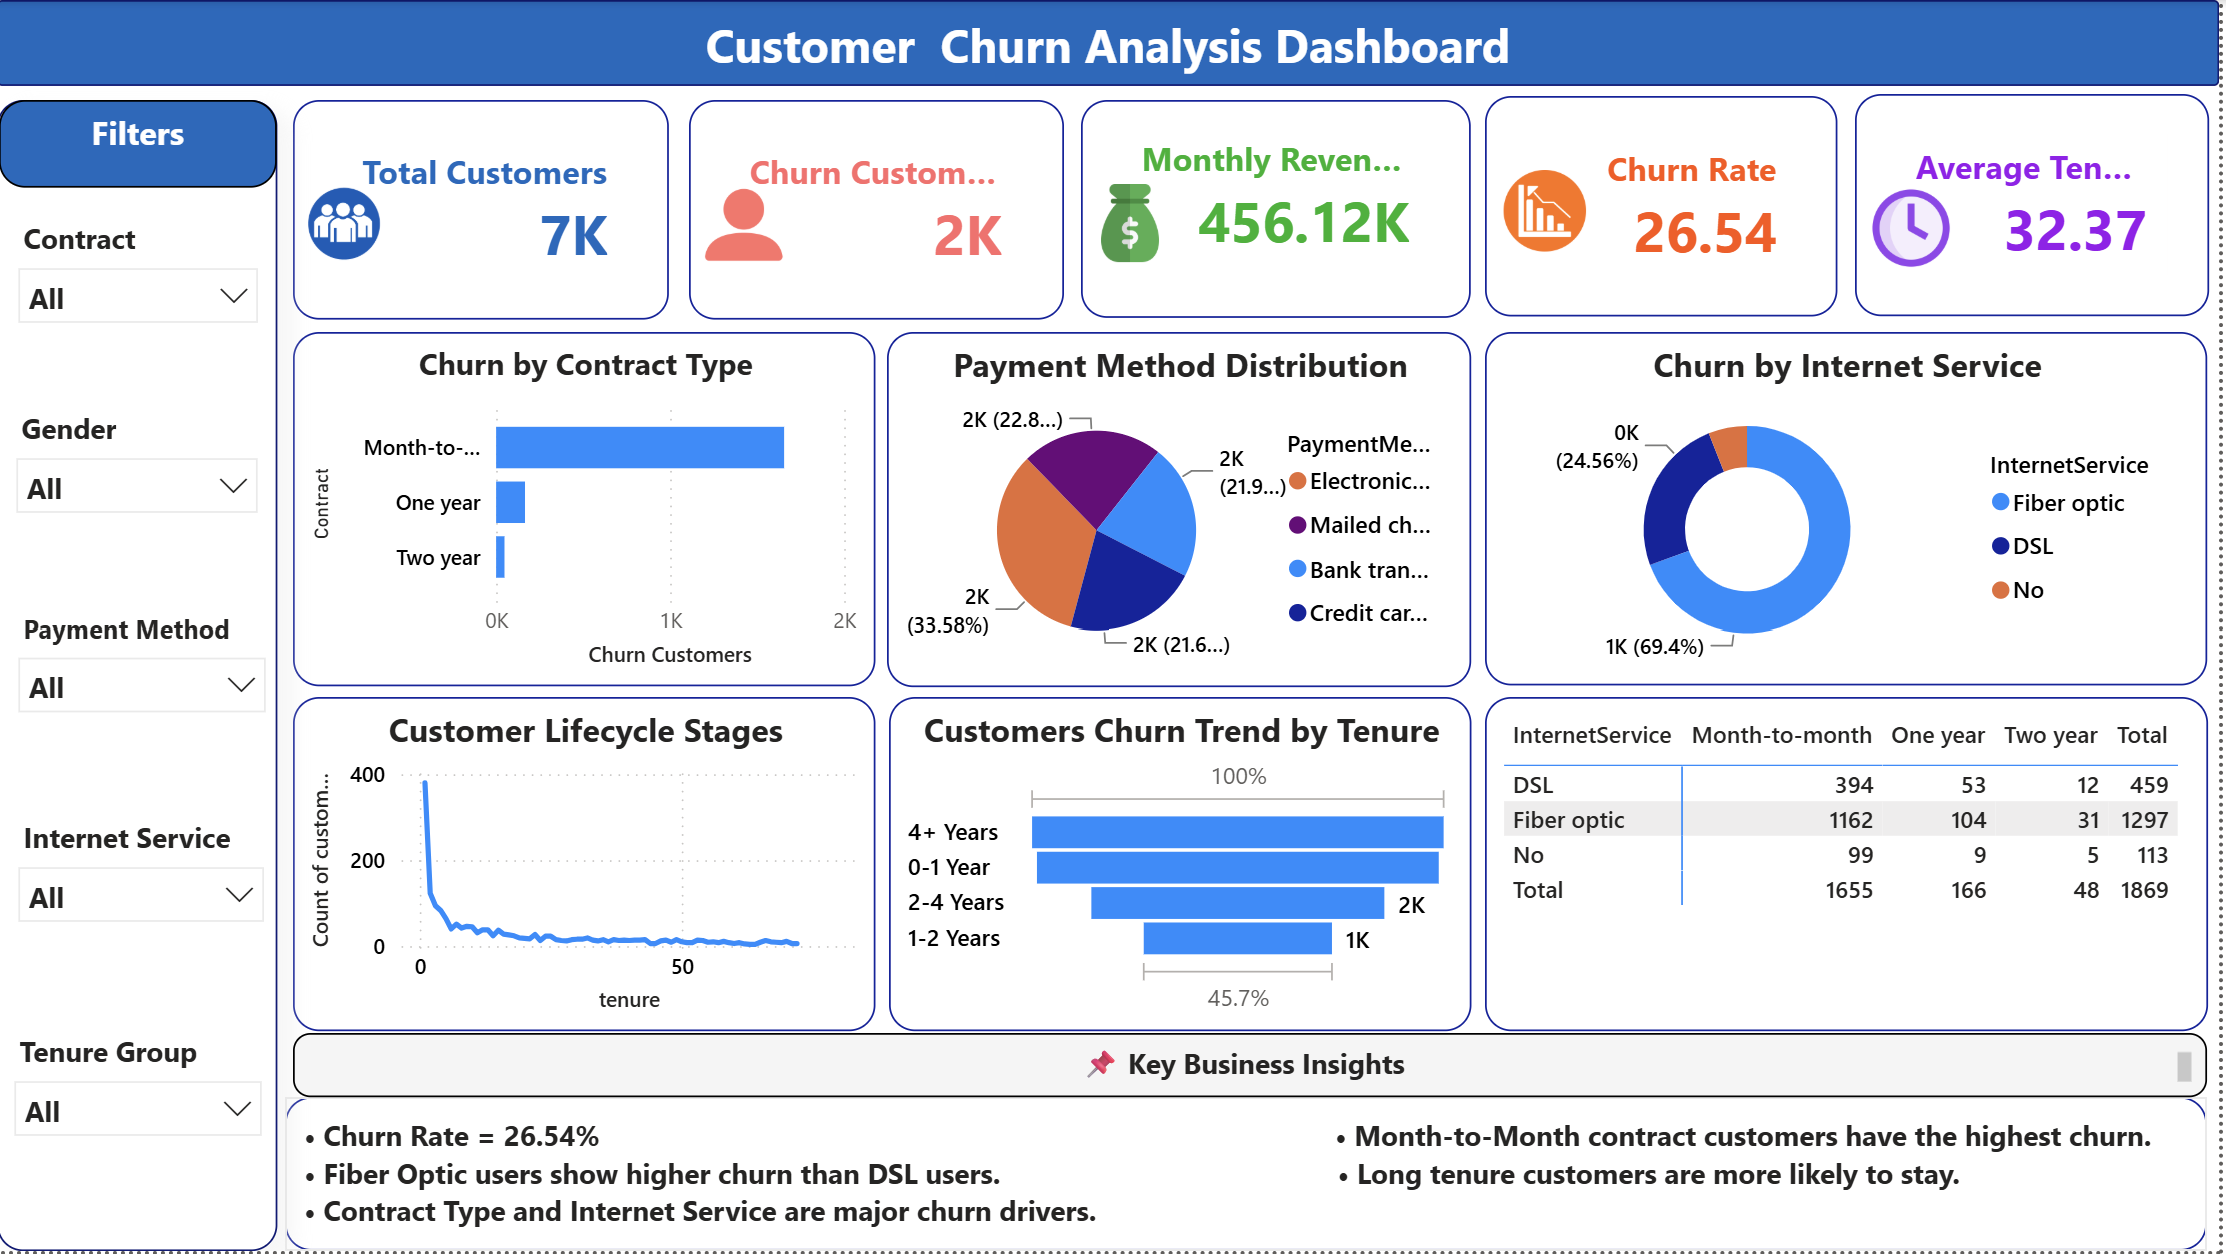

Layout of this report page (visuals, bound fields, positions):
{"tool":"powerbi","page":{"name":"Page 1","canvas":[1280,720],"ordinal":0},"visuals":[{"type":"cardVisual","fields":{"Data":["Customer-Churn.Average Tenure"]},"box":[1070.2,54.1,203.9,127.9],"z":1000},{"type":"clusteredBarChart","title":"Churn by Contract Type","fields":{"Category":["Customer-Churn.Contract"],"Y":["Customer-Churn.Churn Customers"]},"box":[170.5,191.1,335.5,203.5],"z":5000},{"type":"pieChart","title":"Payment Method Distribution","fields":{"Category":["Customer-Churn.PaymentMethod"],"Y":["Customer-Churn.Total Customers"]},"box":[512.6,191.2,336.4,203.9],"z":6000},{"type":"donutChart","title":"Churn by Internet Service","fields":{"Y":["Customer-Churn.Churn Customers"],"Category":["Customer-Churn.InternetService"]},"box":[857.1,191.2,415.9,202.8],"z":7000},{"type":"lineChart","title":"Customer Lifecycle Stages","fields":{"Category":["Customer-Churn.tenure"],"Y":["CountNonNull(Customer-Churn.customerID)"]},"box":[170.5,401.5,335.5,192.5],"z":8000},{"type":"pivotTable","fields":{"Rows":["Customer-Churn.InternetService"],"Columns":["Customer-Churn.Contract"],"Values":["Customer-Churn.Churn Customers"]},"box":[856.5,401.5,416.6,192.5],"z":9000},{"type":"funnel","title":"Customers Churn Trend by Tenure","fields":{"Category":["Customer-Churn.Tenure Group"],"Y":["Customer-Churn.Total Customers"]},"box":[514.2,401.5,335.5,192.5],"z":10000},{"type":"textbox","box":[0,0,1280,49.5],"z":10011},{"type":"cardVisual","fields":{"Data":["Customer-Churn.Churn Rate"]},"box":[856.9,55.9,203.2,127.2],"z":10012},{"type":"cardVisual","fields":{"Data":["Customer-Churn.Monthly Revenue"]},"box":[624.4,57.6,224.6,125.6],"z":10013},{"type":"cardVisual","fields":{"Data":["Customer-Churn.Churn Customers"]},"box":[398.7,57.7,215.9,126.5],"z":10014},{"type":"cardVisual","fields":{"Data":["Customer-Churn.Total Customers"]},"box":[170.5,57.6,216.6,126.7],"z":10015},{"type":"textbox","box":[165.9,631.3,1107.1,88.7],"z":10016},{"type":"textbox","box":[0,57.6,161.3,662.4],"z":10017},{"type":"slicer","fields":{"Values":["Customer-Churn.gender"]},"box":[1.2,230.4,159,85.2],"z":10018},{"type":"slicer","fields":{"Values":["Customer-Churn.InternetService"]},"box":[2.3,465.4,161.3,85.2],"z":10019},{"type":"slicer","fields":{"Values":["Customer-Churn.Contract"]},"box":[2.7,121,158.1,85.2],"z":10021},{"type":"slicer","fields":{"Values":["Customer-Churn.Tenure Group"]},"box":[0,588.7,162.4,85.2],"z":10022},{"type":"slicer","fields":{"Values":["Customer-Churn.PaymentMethod"]},"box":[2.3,346.8,162.4,85.2],"z":10023},{"type":"textbox","box":[170.5,594.4,1102.5,36.9],"z":10024},{"type":"image","box":[406.7,102.5,47.2,54.1],"z":10025},{"type":"image","box":[178.6,101.4,42.6,54.1],"z":10026},{"type":"image","box":[866.3,97.9,50.7,47.2],"z":10027},{"type":"image","box":[624.4,106,56.4,44.9],"z":10028},{"type":"image","box":[1078.3,107.1,48.4,48.4],"z":10029},{"type":"textbox","box":[1.2,57.6,160,50.7],"z":10030}]}

Visuals, with their boxes in screenshot pixels (x1, y1, x2, y2), scaled from the page's 1280x720 canvas onto the 2226x1254 screenshot:
cardVisual - Customer-Churn.Average Tenure: box(1861, 94, 2216, 317)
"Churn by Contract Type" clusteredBarChart: box(297, 333, 880, 687)
"Payment Method Distribution" pieChart: box(891, 333, 1476, 688)
"Churn by Internet Service" donutChart: box(1491, 333, 2214, 686)
"Customer Lifecycle Stages" lineChart: box(297, 699, 880, 1035)
pivotTable - Customer-Churn.InternetService x Customer-Churn.Contract: box(1490, 699, 2214, 1035)
"Customers Churn Trend by Tenure" funnel: box(894, 699, 1478, 1035)
textbox: box(0, 0, 2225, 86)
cardVisual - Customer-Churn.Churn Rate: box(1490, 97, 1844, 319)
cardVisual - Customer-Churn.Monthly Revenue: box(1086, 100, 1476, 319)
cardVisual - Customer-Churn.Churn Customers: box(693, 100, 1069, 321)
cardVisual - Customer-Churn.Total Customers: box(297, 100, 673, 321)
textbox: box(289, 1100, 2214, 1253)
textbox: box(0, 100, 281, 1253)
slicer - Customer-Churn.gender: box(2, 401, 279, 550)
slicer - Customer-Churn.InternetService: box(4, 811, 285, 959)
slicer - Customer-Churn.Contract: box(5, 211, 280, 359)
slicer - Customer-Churn.Tenure Group: box(0, 1025, 282, 1174)
slicer - Customer-Churn.PaymentMethod: box(4, 604, 286, 752)
textbox: box(297, 1035, 2214, 1100)
image: box(707, 179, 789, 273)
image: box(311, 177, 385, 271)
image: box(1507, 171, 1595, 253)
image: box(1086, 185, 1184, 263)
image: box(1875, 187, 1959, 271)
textbox: box(2, 100, 280, 189)
